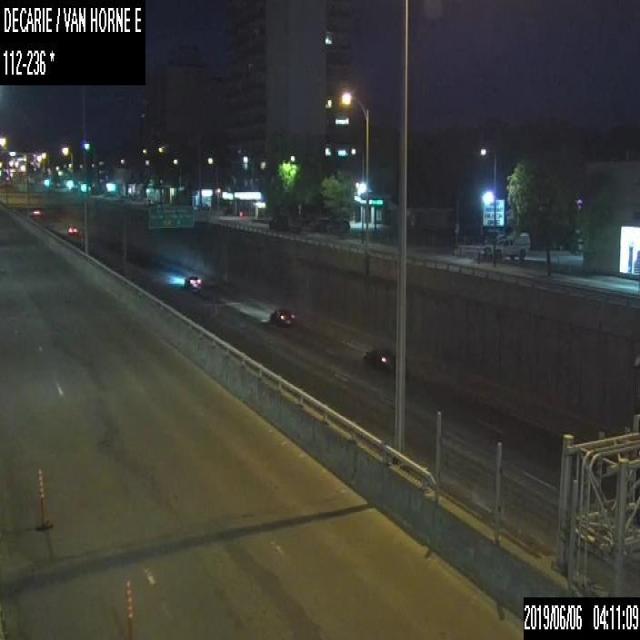construction: (34, 467, 51, 532), (122, 574, 137, 638)
vehicle: (482, 232, 530, 260), (364, 344, 394, 368), (268, 212, 300, 233), (268, 307, 295, 328), (184, 275, 202, 292), (28, 204, 44, 220), (65, 222, 77, 235)
